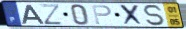0: (69, 3, 90, 26)
A: (21, 4, 46, 25)
P: (91, 5, 113, 26)
S: (142, 4, 167, 27)
X: (118, 4, 145, 27)
Z: (39, 3, 65, 26)
